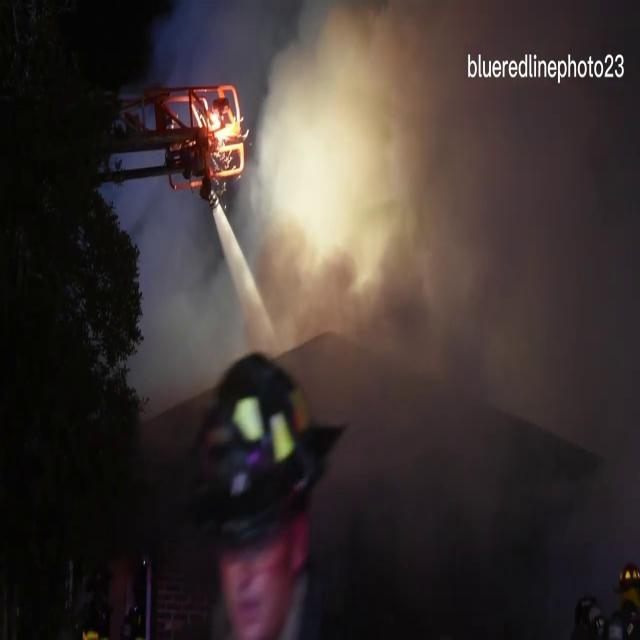Smoke: (284, 6, 640, 556)
